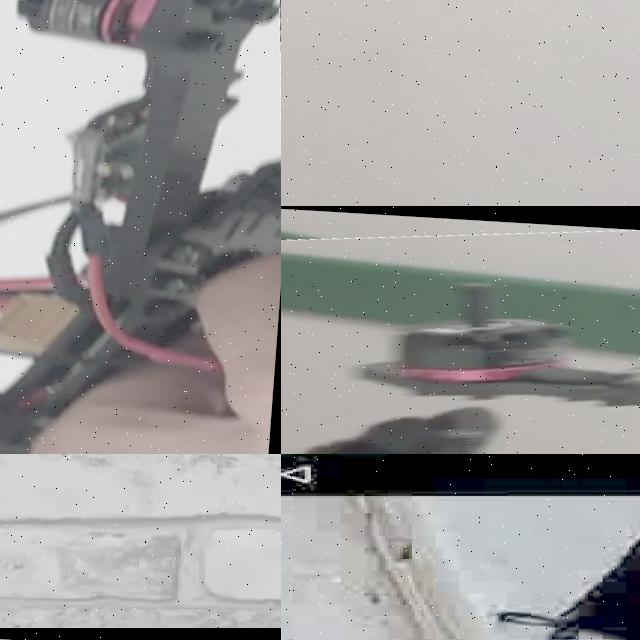drone: (0, 0, 281, 454), (281, 206, 640, 454)
